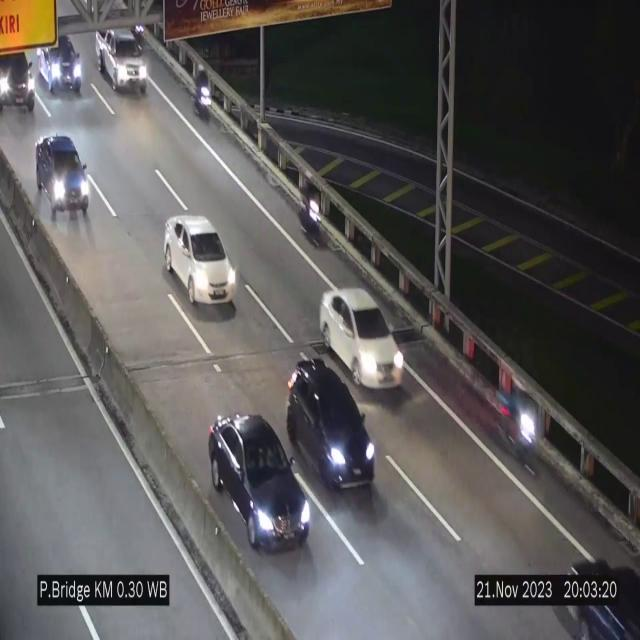Car: (208, 413, 312, 552), (286, 353, 375, 491), (319, 289, 406, 389), (555, 542, 640, 640), (164, 215, 236, 305), (36, 132, 94, 224), (38, 20, 90, 102), (96, 28, 146, 94), (0, 38, 38, 124)
Motorcycle: (506, 383, 537, 466), (301, 182, 323, 246), (195, 61, 214, 129)
